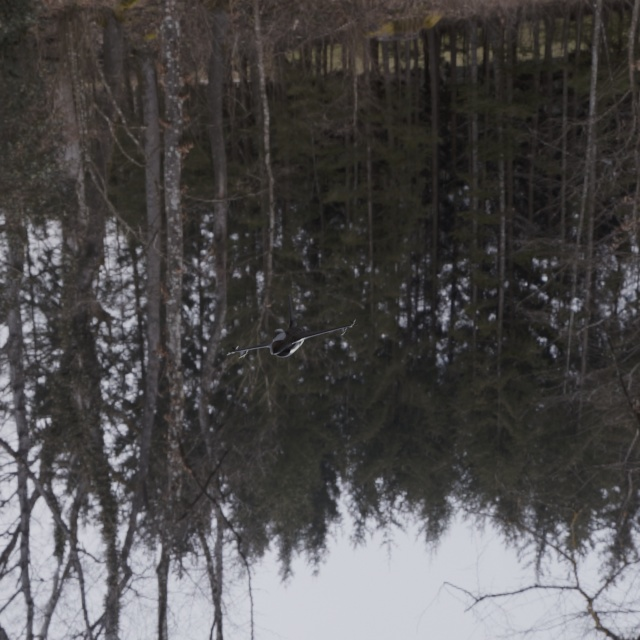model: (192, 282, 357, 381)
